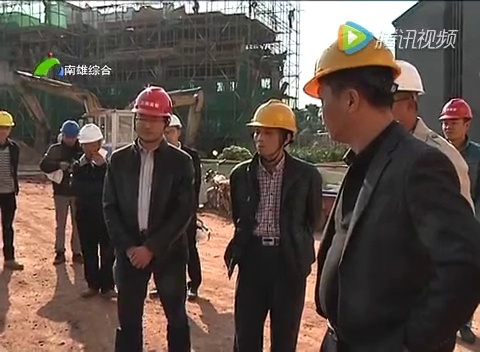blue: (57, 118, 80, 147)
red: (131, 85, 170, 143), (437, 97, 472, 142)
white: (385, 55, 423, 127), (76, 123, 103, 157), (162, 113, 182, 144)
yellow: (312, 36, 395, 147), (247, 98, 297, 161), (1, 109, 13, 143)
